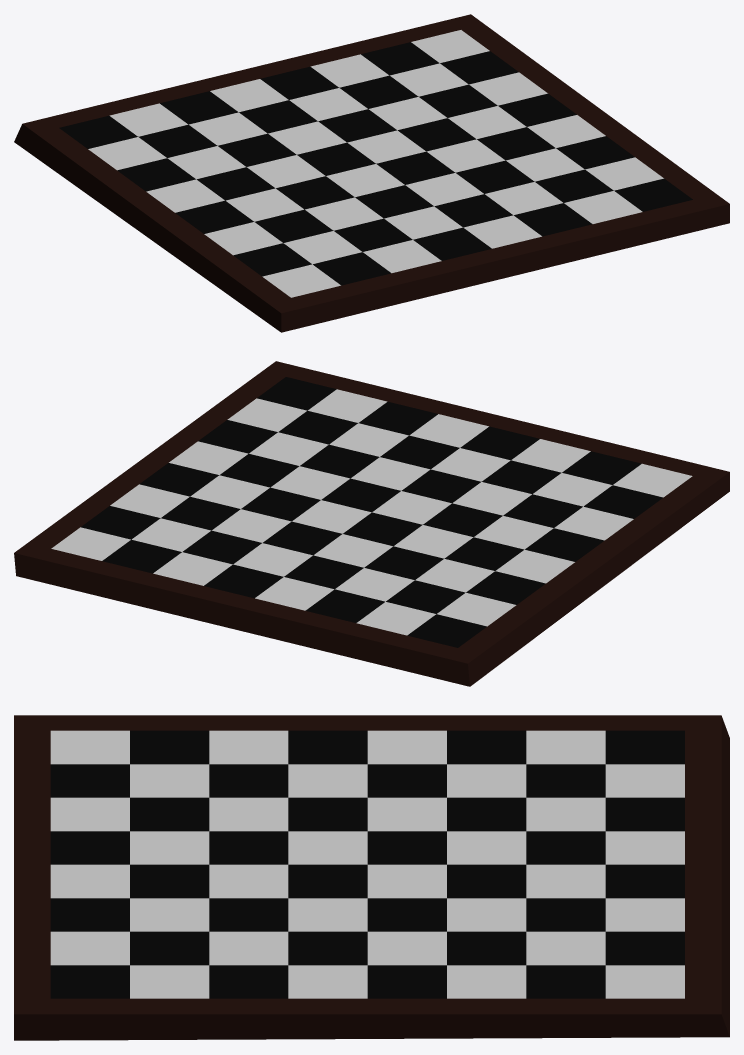
Rendered from Chessboard.obj.
3 renders of one model, top to bottom at view 1: azimuth 30°, elevation 25°; view 2: azimuth 150°, elevation 25°; view 3: azimuth 270°, elevation 25°, orthographic. The views are drawn at different scales.
Parts seen in each view (by area): view 1: Board; view 2: Board; view 3: Board.
Boxes of the visible parts, x1=… form: Board: x1=14, y1=14, x2=729, y2=332; Board: x1=14, y1=361, x2=729, y2=686; Board: x1=14, y1=715, x2=729, y2=1040.
Bounding box in the file's own units: 13.72 × 0.5587 × 13.72.
